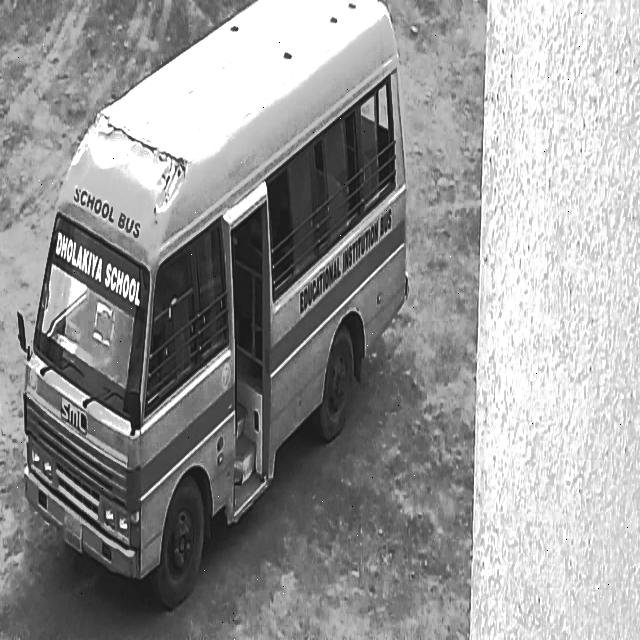Bus: (13, 48, 427, 582)
